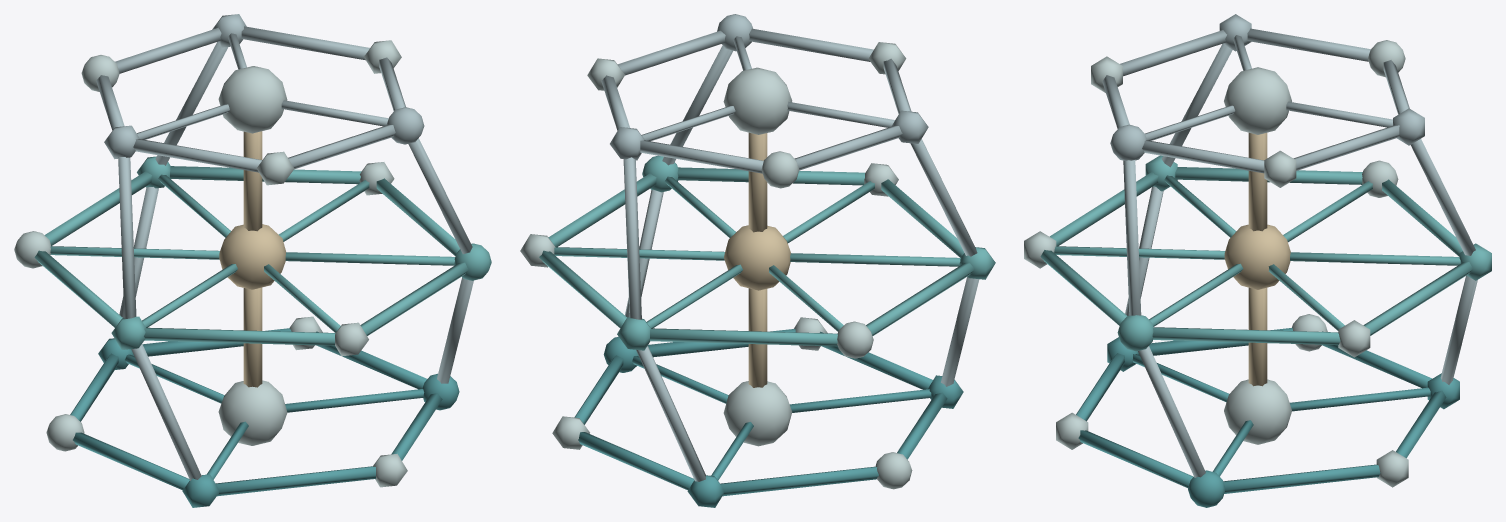
The model's file is ART-59.glb.
3 views of the same model, side by side, from view 1: azimuth 30°, elevation 25°; view 2: azimuth 150°, elevation 25°; view 3: azimuth 270°, elevation 25° (orthographic).
Visible parts, largest first — view 1: world; view 2: world; view 3: world.
Boxes of the visible parts, left/top/right/bottom form: world: left=14, top=14, right=491, bottom=507; world: left=520, top=14, right=995, bottom=507; world: left=1024, top=14, right=1491, bottom=507.
Size of the model in its own units: 1.81 by 1.75 by 2.
